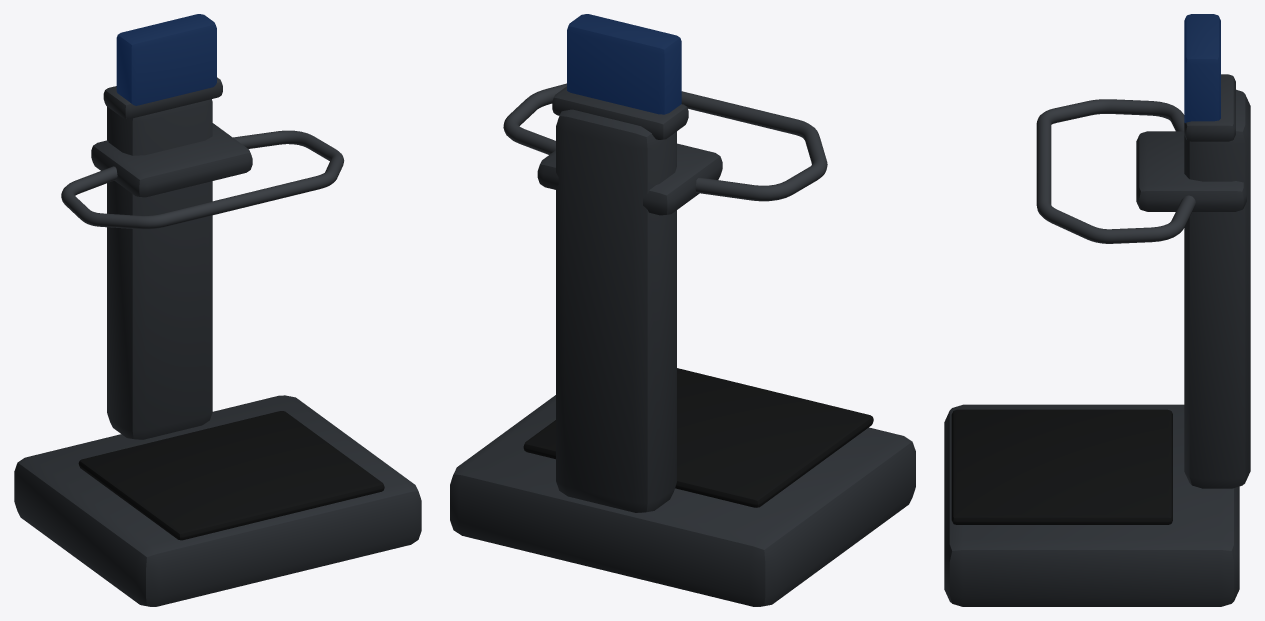
File: vibration.glb
3 renders of one model, left to right at view 1: azimuth 30°, elevation 25°; view 2: azimuth 150°, elevation 25°; view 3: azimuth 270°, elevation 25°, orthographic. The views are drawn at different scales.
Parts seen in each view (by area): view 1: vibration; view 2: vibration; view 3: vibration.
Boxes of the visible parts, x1,y1,x2,y2 form: vibration: (14, 14, 421, 606); vibration: (450, 14, 915, 606); vibration: (944, 14, 1250, 606).
Size of the model in its own units: 0.96 by 1.51 by 0.83.
